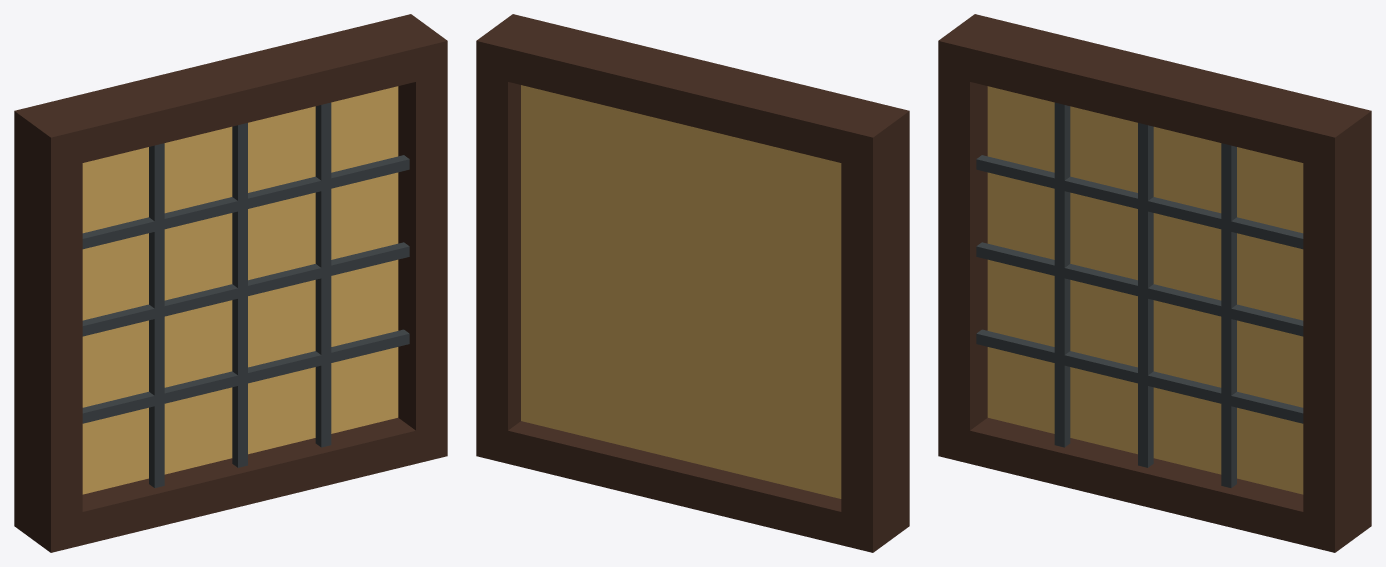
The model's file is 841_rectangular_leaded_window_insert.fbx.
The picture shows the model from 3 angles, left to right: view 1: azimuth 30°, elevation 25°; view 2: azimuth 150°, elevation 25°; view 3: azimuth 330°, elevation 25°; orthographic projection.
Visible parts, largest first — view 1: 841_rectangular_leaded_window_insert; view 2: 841_rectangular_leaded_window_insert; view 3: 841_rectangular_leaded_window_insert.
Part boxes in pixels (box(x1,y1,x2,y2)): 841_rectangular_leaded_window_insert: box(14, 14, 447, 552); 841_rectangular_leaded_window_insert: box(476, 14, 909, 552); 841_rectangular_leaded_window_insert: box(938, 14, 1371, 552).
Size of the model in its own units: 1 by 1 by 0.16.
1 material, 1 textured.
